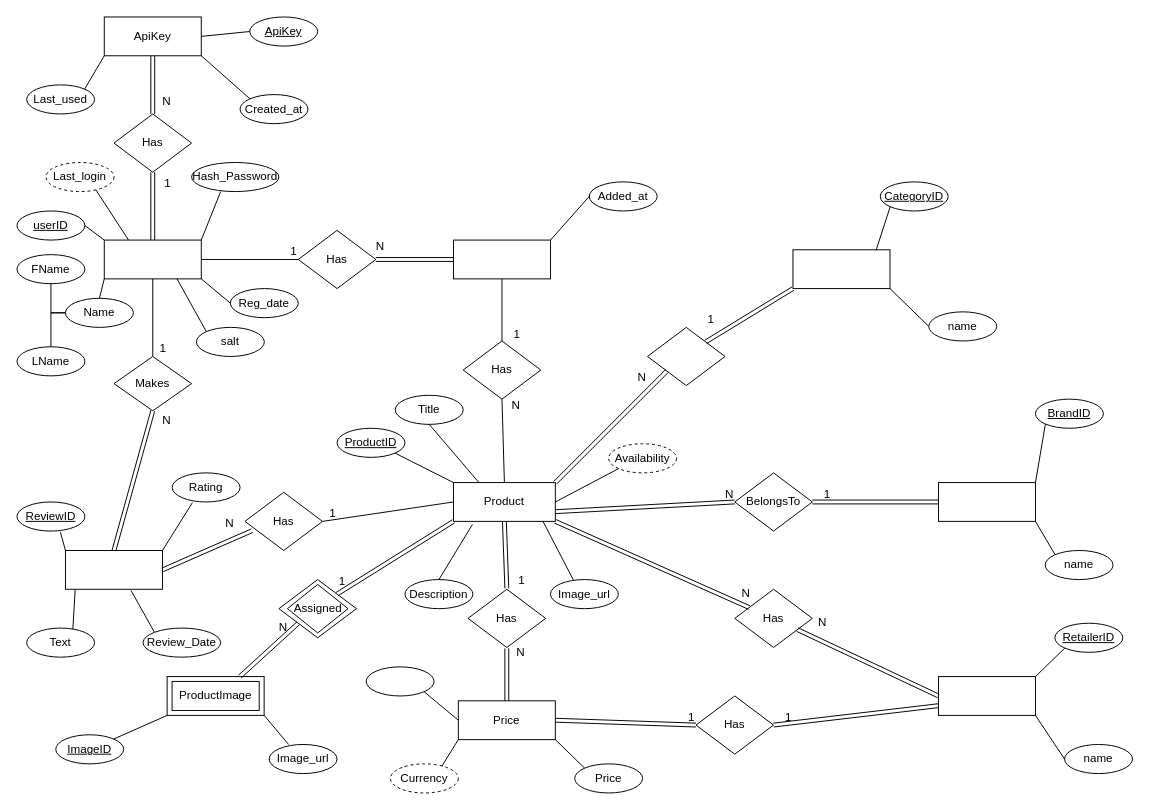
Image size: 1149x810. Some labels were removed from this diagram. The box of each missing label's shape, as (x1, y1, x2, y2) in pixels:
Brand: (938, 482, 1035, 521)
Category: (792, 249, 890, 289)
PriceID: (365, 666, 434, 696)
Retailer: (938, 676, 1035, 715)
Review: (65, 550, 162, 589)
User: (103, 239, 201, 279)
Wishlist: (453, 239, 550, 279)
Within: (647, 326, 725, 386)
